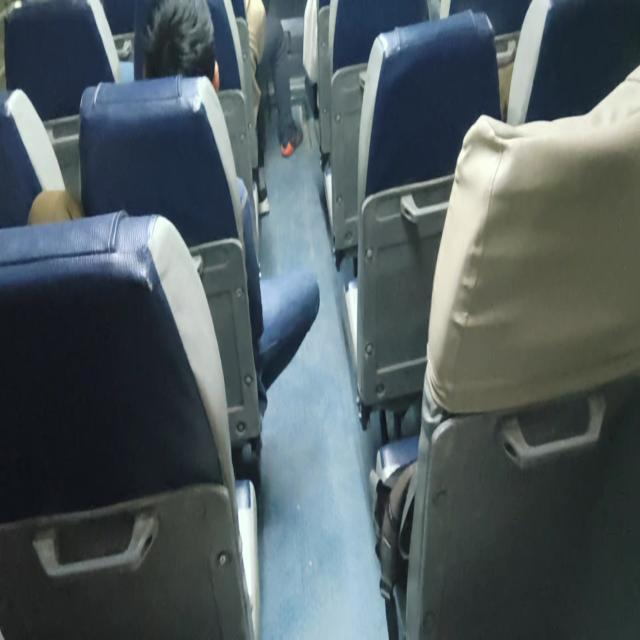person: (148, 6, 224, 96)
